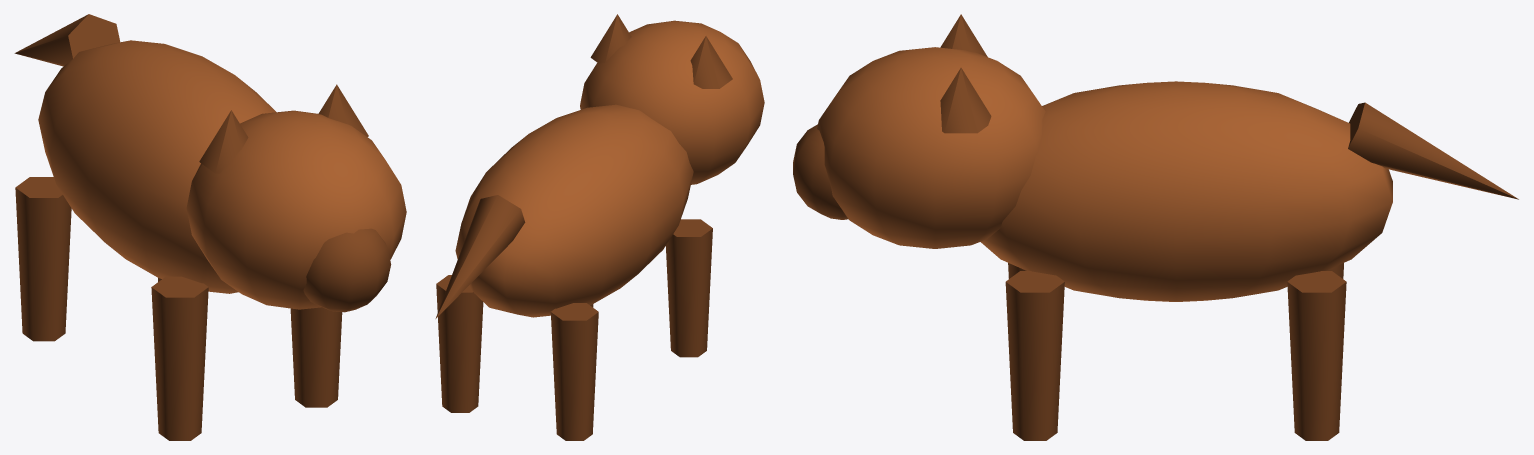
File: dhole.glb
The picture shows the model from 3 angles, left to right: view 1: azimuth 30°, elevation 25°; view 2: azimuth 150°, elevation 25°; view 3: azimuth 270°, elevation 25°; orthographic projection. The views are drawn at different scales.
Bounding box in the file's own units: 0.6 × 1.06 × 1.96.
